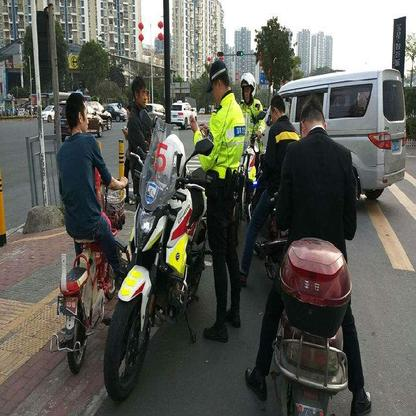target: (248, 102, 372, 412), (53, 92, 130, 374)
